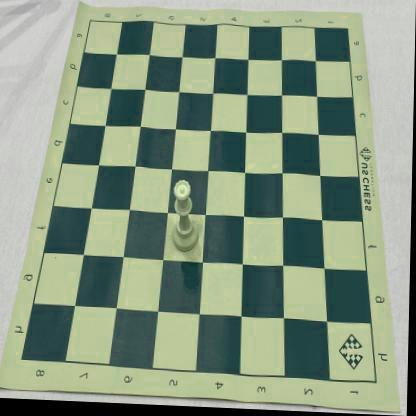white-queen: (172, 180, 202, 254)
